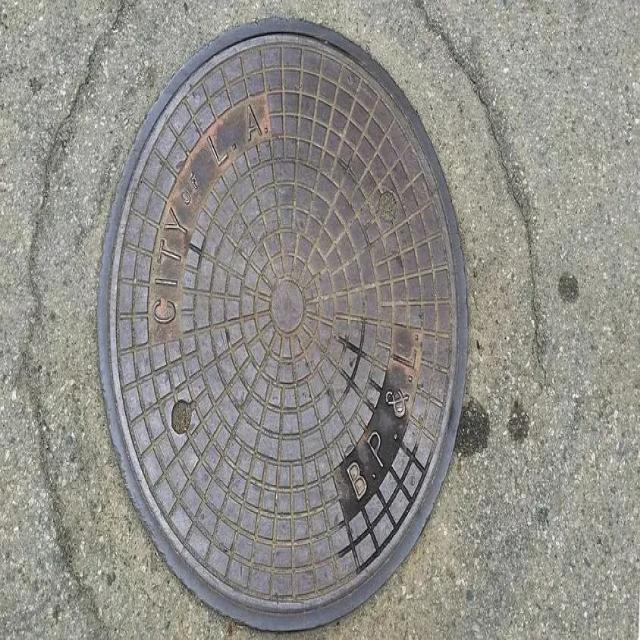manhole: (99, 19, 468, 630)
